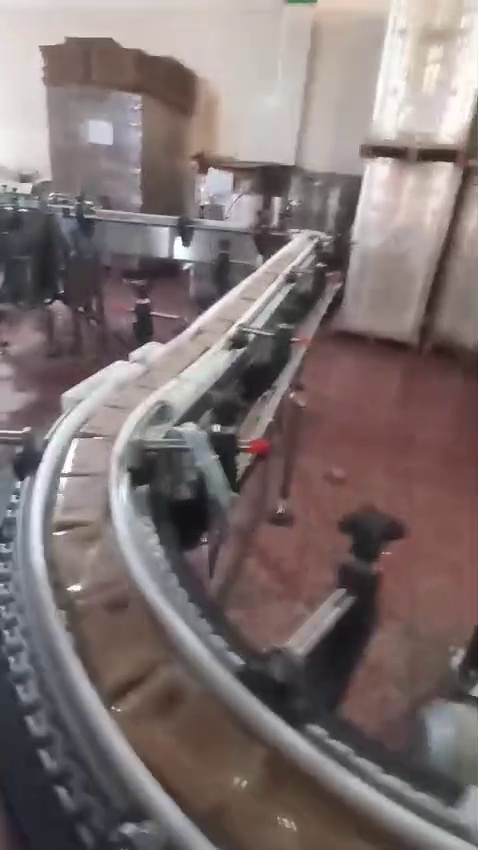savon: (97, 628, 404, 850), (166, 76, 224, 166), (148, 124, 166, 182), (428, 654, 448, 687), (410, 148, 452, 163), (465, 120, 478, 160), (72, 608, 88, 640)
